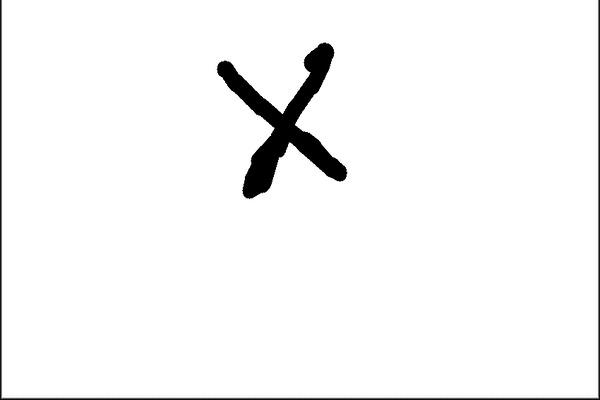X: (198, 27, 371, 213)
